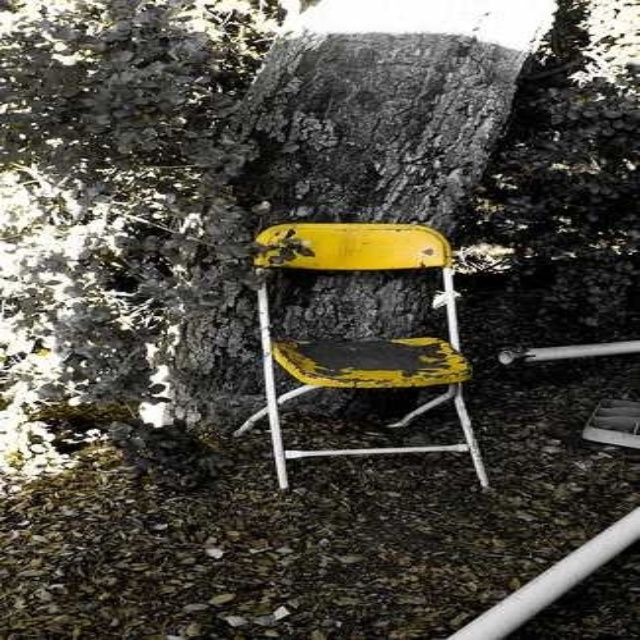obstacle: (254, 223, 486, 488)
